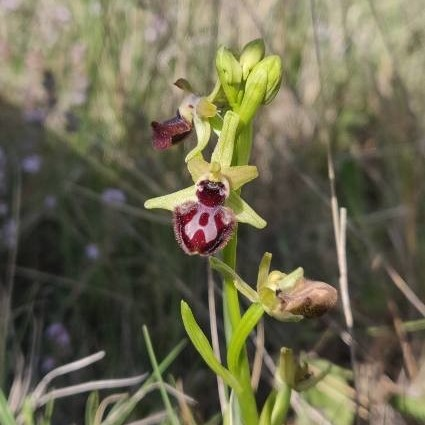obstacle: (156, 46, 274, 382)
